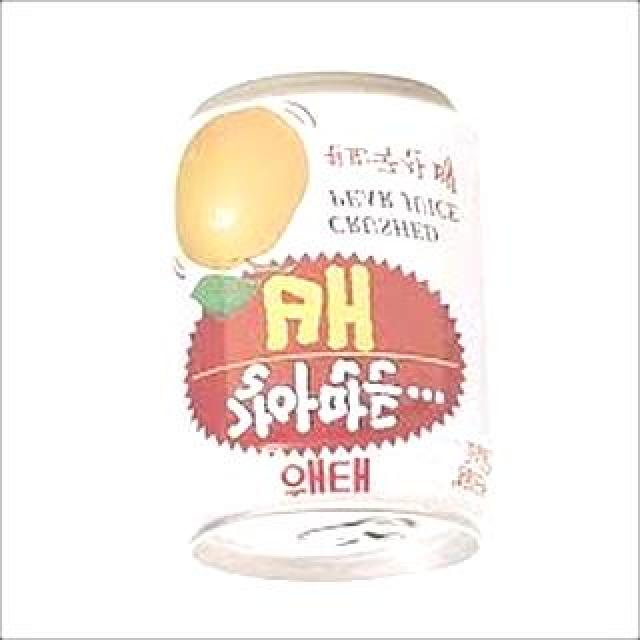Can: (158, 75, 504, 589)
